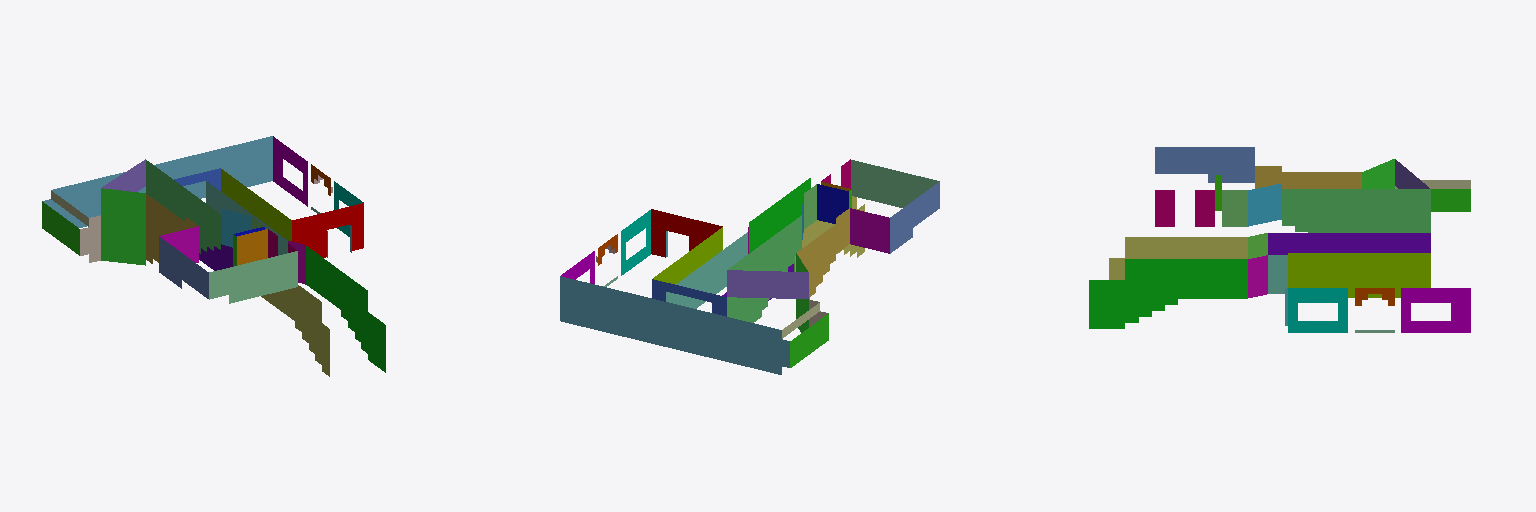
File: BRKGRY01-1.obj
3 views of the same model, side by side, from view 1: azimuth 30°, elevation 25°; view 2: azimuth 150°, elevation 25°; view 3: azimuth 270°, elevation 25° (orthographic).
Visible parts, largest first — view 1: BRKGRY01.1; view 2: BRKGRY01.1; view 3: BRKGRY01.1.
Part boxes in pixels (left/top/right/bottom): BRKGRY01.1: left=42, top=136, right=385, bottom=376; BRKGRY01.1: left=560, top=159, right=939, bottom=374; BRKGRY01.1: left=1089, top=147, right=1470, bottom=332.
Size of the model in its own units: 1312 by 592 by 1840.